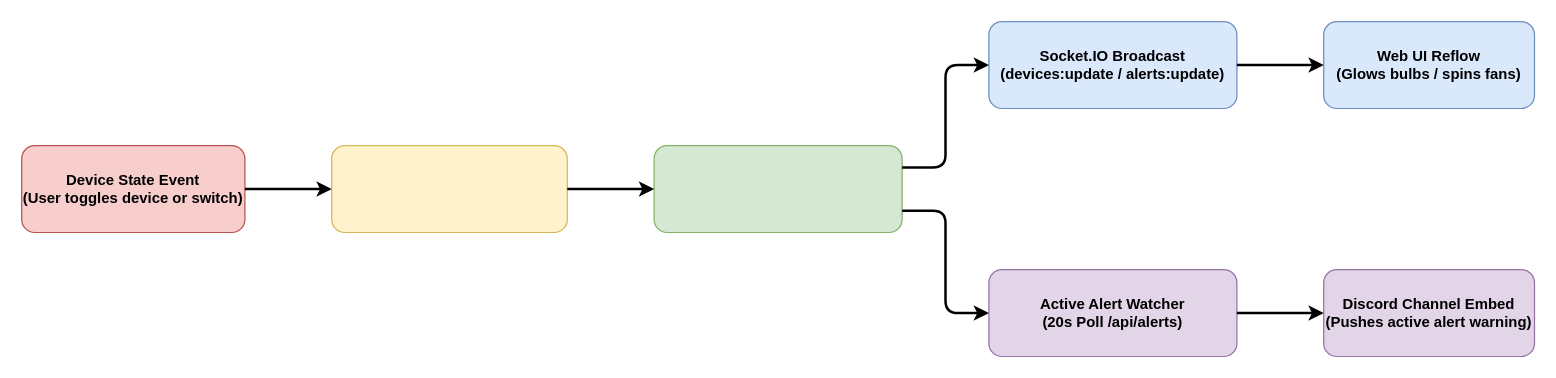
The diagram is 1556 pixels wide and 378 high, and some of its shapes have lost their labels. The shapes that lost their labels are listed below. From the top down, each one's centre as x and y in pixels, then its label:
[448,188]: REST API Request (POST /api/devices/:id/toggle)
[777,188]: Engine Processor (Updates state & evaluates rules)
